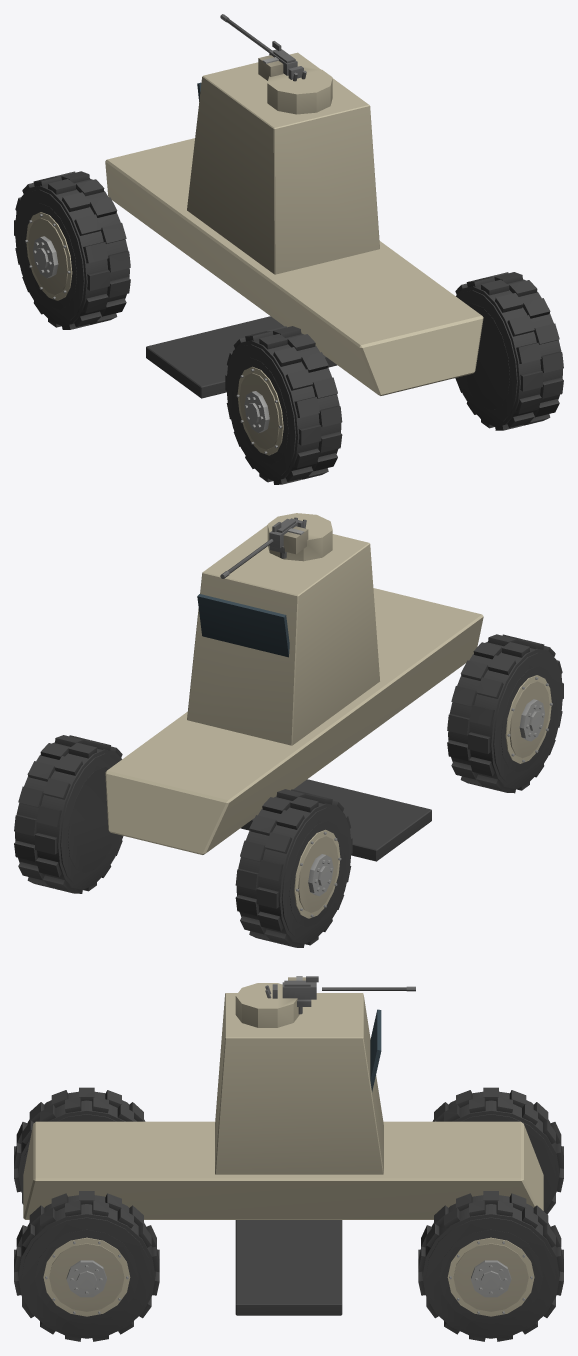
File: usa_eng_husky.glb
3 views of the same model, one above another, from view 1: azimuth 30°, elevation 25°; view 2: azimuth 150°, elevation 25°; view 3: azimuth 270°, elevation 25° (orthographic). The views are drawn at different scales.
Visible parts, largest first — view 1: body, wheel_2, wheel_0, wheel_3, turret, barrel; view 2: body, wheel_0, wheel_2, wheel_1, turret, barrel; view 3: body, wheel_1, wheel_3, wheel_0, wheel_2, turret, barrel.
Boxes of the visible parts, left/top/right/bottom form: body: left=105, top=52, right=483, bottom=398; wheel_2: left=225, top=326, right=342, bottom=484; wheel_0: left=14, top=171, right=130, bottom=329; wheel_3: left=455, top=272, right=563, bottom=430; turret: left=267, top=66, right=332, bottom=114; barrel: left=220, top=14, right=306, bottom=81; body: left=105, top=525, right=483, bottom=861; wheel_0: left=235, top=789, right=352, bottom=947; wheel_2: left=447, top=634, right=563, bottom=793; wheel_1: left=14, top=735, right=123, bottom=893; turret: left=267, top=513, right=332, bottom=561; barrel: left=220, top=517, right=308, bottom=578; body: left=23, top=993, right=543, bottom=1315; wheel_1: left=418, top=1191, right=563, bottom=1341; wheel_3: left=14, top=1191, right=159, bottom=1341; wheel_0: left=432, top=1087, right=563, bottom=1214; wheel_2: left=14, top=1087, right=145, bottom=1204; turret: left=235, top=983, right=299, bottom=1027; barrel: left=265, top=976, right=415, bottom=1014.
Bounding box in the file's own units: 2.95 × 3.15 × 5.17.
